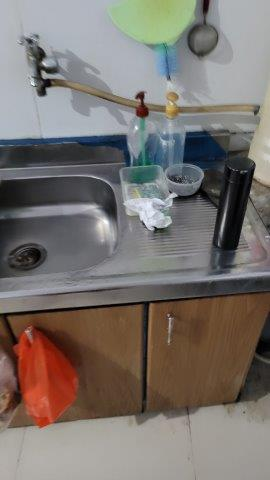kertas: (119, 192, 181, 237)
